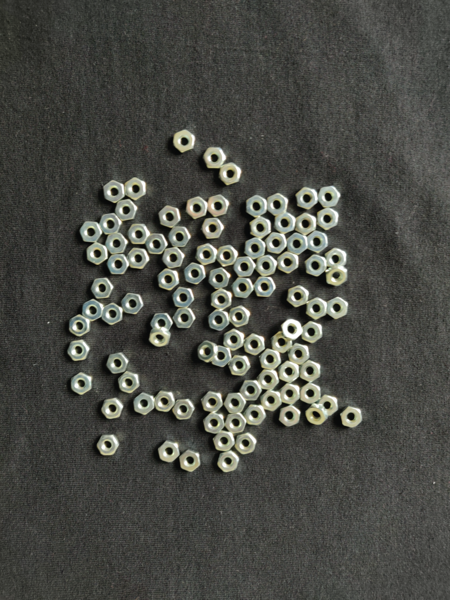nut: (173, 129, 196, 154), (219, 162, 242, 186), (295, 187, 319, 210), (194, 243, 218, 266), (172, 398, 196, 421), (124, 177, 147, 200), (158, 205, 181, 228), (185, 196, 208, 219), (157, 268, 180, 291), (287, 285, 310, 308), (288, 343, 311, 366), (267, 193, 289, 217), (105, 233, 129, 255), (162, 247, 186, 269), (278, 405, 302, 427), (103, 180, 125, 203), (318, 186, 341, 208), (246, 195, 268, 218), (100, 213, 123, 235), (80, 221, 103, 243), (274, 212, 297, 234), (295, 213, 317, 236), (317, 208, 339, 231), (216, 245, 239, 267), (287, 233, 309, 256), (255, 255, 278, 277), (277, 251, 299, 274), (305, 255, 328, 277), (172, 287, 195, 309), (121, 293, 144, 315), (82, 299, 104, 322), (68, 340, 91, 362), (306, 297, 328, 320), (280, 319, 303, 341), (302, 321, 324, 344), (271, 331, 293, 354), (259, 349, 282, 371), (118, 371, 140, 394), (71, 372, 93, 395), (158, 440, 180, 463), (201, 392, 224, 414), (300, 360, 322, 383), (278, 361, 300, 384), (235, 433, 258, 455), (218, 451, 240, 474), (201, 218, 225, 239), (253, 277, 277, 298), (91, 278, 115, 299), (106, 353, 130, 374), (116, 199, 138, 221), (265, 232, 287, 254), (184, 263, 206, 285), (232, 277, 254, 299), (69, 315, 91, 337), (211, 289, 233, 311), (208, 309, 230, 331), (229, 306, 251, 328), (223, 329, 245, 351), (102, 398, 124, 420), (154, 390, 176, 412), (300, 383, 322, 405), (317, 395, 339, 417), (204, 147, 227, 168), (250, 216, 271, 239), (168, 227, 191, 248), (145, 234, 168, 255), (87, 243, 108, 266), (127, 248, 150, 269), (107, 254, 130, 275), (308, 231, 329, 254), (208, 268, 231, 289), (173, 308, 196, 329), (102, 303, 123, 326), (244, 333, 265, 356), (228, 355, 251, 376), (97, 435, 120, 456), (134, 393, 155, 416), (180, 450, 201, 473), (224, 393, 247, 414), (306, 404, 329, 425), (280, 383, 301, 406), (244, 405, 267, 426), (224, 413, 247, 434), (213, 431, 236, 452), (208, 195, 229, 217), (245, 238, 266, 260), (326, 266, 348, 287), (328, 297, 349, 319), (341, 407, 363, 428), (261, 391, 283, 412), (128, 224, 151, 244), (233, 257, 256, 277), (198, 340, 218, 363), (257, 370, 280, 390), (204, 413, 225, 434), (149, 327, 171, 347), (212, 346, 232, 368), (240, 381, 262, 401), (325, 248, 347, 267), (150, 314, 173, 330)
